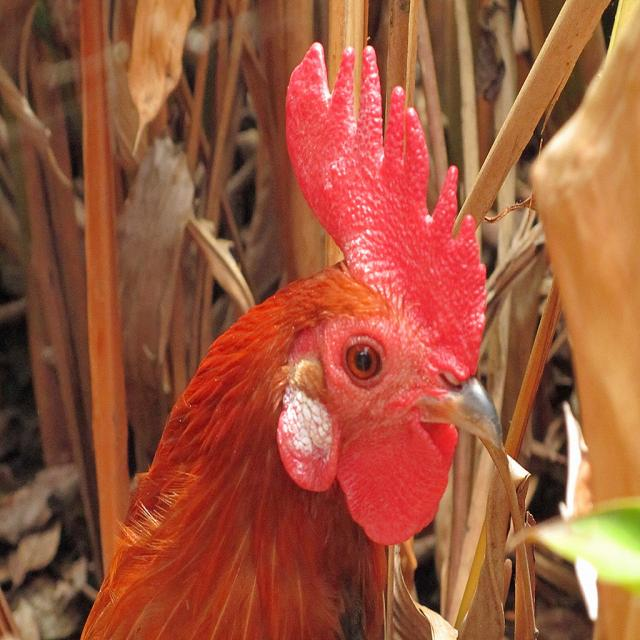Chicken: (80, 42, 503, 640)
